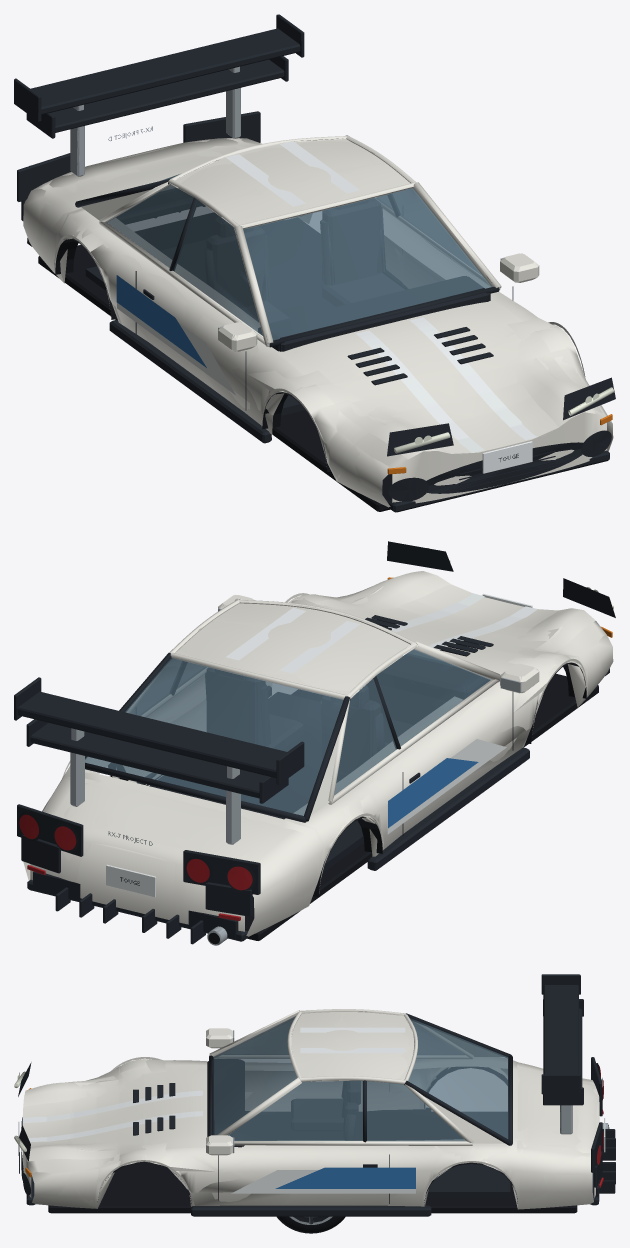
Rendered from rx7amemiya.glb.
3 renders of one model, top to bottom at view 1: azimuth 30°, elevation 25°; view 2: azimuth 150°, elevation 25°; view 3: azimuth 270°, elevation 25°, orthographic. The views are drawn at different scales.
Visible parts, largest first — view 1: LOD0_body, LOD0_cabin, LOD0_glass, LOD1_glass, LOD1_body, LOD0_hood, LOD1_cabin, LOD1_hood, LOD1_spoiler_gt, LOD0_spoiler_stock, LOD1_spoiler_stock, LOD0_spoiler_gt (+3 smaller); view 2: LOD0_body, LOD0_cabin, LOD1_body, LOD0_glass, LOD1_glass, LOD0_hood, LOD1_spoiler_gt, LOD1_hood, LOD1_spoiler_stock, LOD0_spoiler_stock, LOD0_spoiler_gt, LOD1_cabin (+3 smaller); view 3: LOD0_body, LOD0_cabin, LOD0_glass, LOD1_glass, LOD1_body, LOD0_hood, LOD1_hood, LOD1_cabin, LOD0_vinyl_apex, LOD1_spoiler_gt, LOD0_vinyl_twin, LOD1_vinyl_twin (+3 smaller).
Boxes of the visible parts, x1,y1,x2,y2 form: LOD0_body: [17, 111, 615, 512]; LOD0_cabin: [75, 135, 501, 415]; LOD0_glass: [107, 174, 491, 339]; LOD1_glass: [107, 175, 491, 340]; LOD1_body: [17, 125, 613, 512]; LOD0_hood: [275, 299, 595, 459]; LOD1_cabin: [77, 136, 495, 415]; LOD1_hood: [318, 317, 560, 453]; LOD1_spoiler_gt: [14, 28, 303, 121]; LOD0_spoiler_stock: [26, 56, 288, 176]; LOD1_spoiler_stock: [50, 59, 288, 176]; LOD0_spoiler_gt: [14, 14, 304, 121]; LOD0_body: [17, 541, 615, 945]; LOD0_cabin: [85, 598, 499, 872]; LOD1_body: [17, 546, 613, 945]; LOD0_glass: [85, 649, 489, 815]; LOD1_glass: [85, 649, 490, 815]; LOD0_hood: [316, 571, 595, 674]; LOD1_spoiler_gt: [16, 677, 296, 784]; LOD1_hood: [333, 584, 558, 661]; LOD1_spoiler_stock: [27, 723, 269, 844]; LOD0_spoiler_stock: [26, 719, 288, 844]; LOD0_spoiler_gt: [14, 678, 304, 784]; LOD1_cabin: [119, 599, 498, 871]; LOD0_body: [14, 1028, 615, 1216]; LOD0_cabin: [207, 1009, 512, 1197]; LOD0_glass: [213, 1016, 508, 1141]; LOD1_glass: [213, 1016, 508, 1141]; LOD1_body: [15, 1028, 609, 1215]; LOD0_hood: [22, 1065, 207, 1161]; LOD1_hood: [22, 1071, 191, 1151]; LOD1_cabin: [208, 1010, 512, 1197]; LOD0_vinyl_apex: [231, 1167, 415, 1193]; LOD1_spoiler_gt: [541, 976, 580, 1081]; LOD0_vinyl_twin: [26, 1027, 405, 1141]; LOD1_vinyl_twin: [22, 1027, 405, 1141].
Size of the model in its own units: 2.05 by 1.68 by 4.47.
